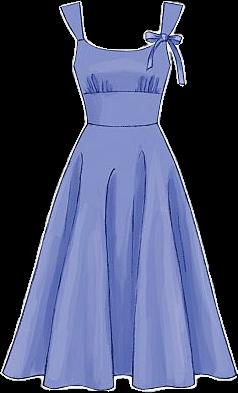Bodice: (59, 1, 184, 127)
Hemline: (0, 369, 237, 392)
Neckline: (79, 0, 165, 51), (80, 88, 165, 97)
Skirt: (0, 123, 236, 391)
Waistline: (85, 119, 159, 130)
